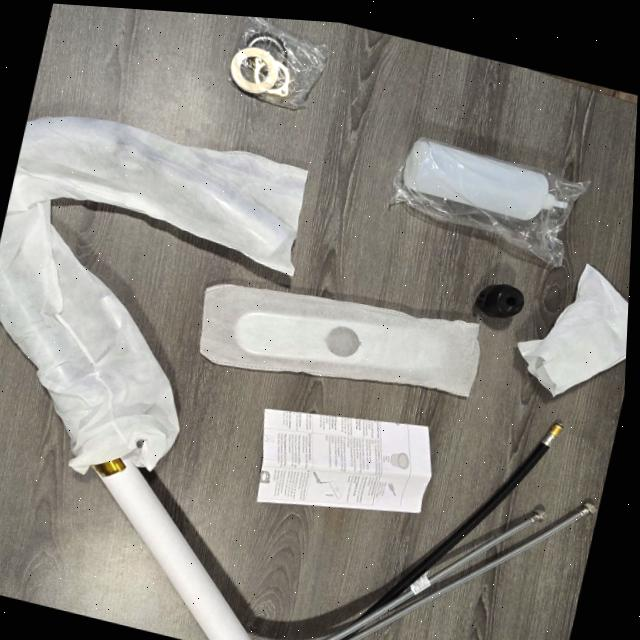1c: (0, 115, 305, 640), (312, 421, 593, 640)
2c: (516, 263, 628, 395)
3: (390, 136, 585, 266)
4c: (199, 283, 478, 395)
5: (473, 282, 523, 317)
6: (229, 16, 326, 108)
8: (256, 407, 430, 510)
